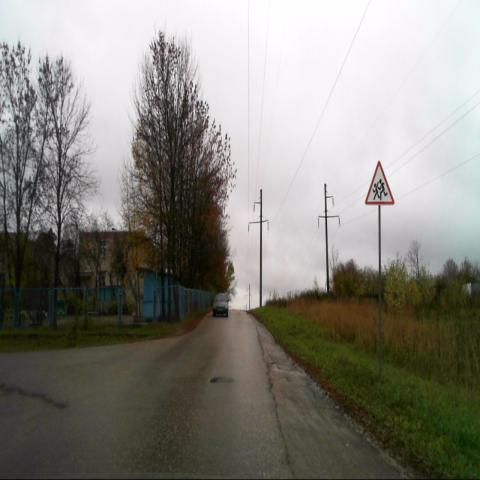1_23: (365, 160, 394, 205)
